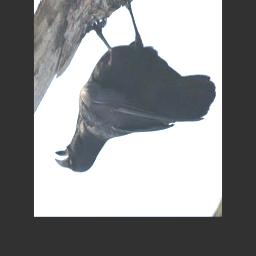Crow: (52, 0, 217, 175)
